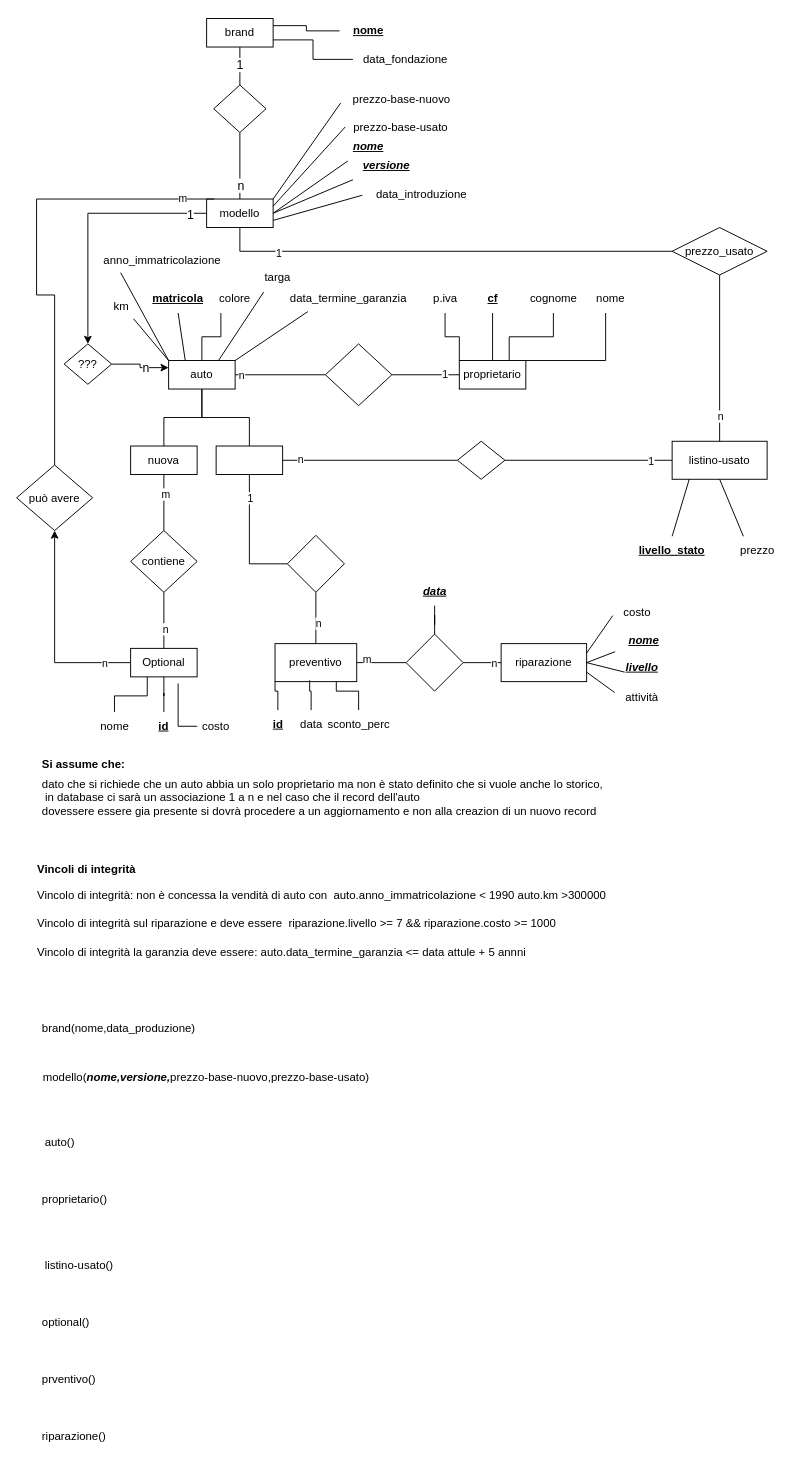
The diagram is 803 pixels wide and 1467 high, and some of its shapes have lost their labels. The box of each missing label's shape, as (x1, y1, x2, y2) in pixels:
costa: (456, 440, 505, 479)
disposto: (286, 534, 344, 592)
effettua: (405, 633, 463, 691)
intestata: (324, 343, 392, 406)
produce: (213, 84, 266, 133)
usata: (215, 445, 283, 475)
